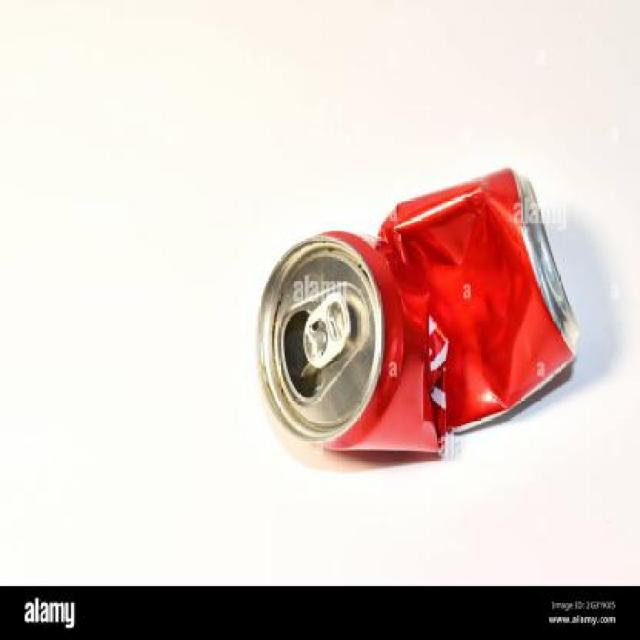non-organic waste: (236, 151, 590, 506)
